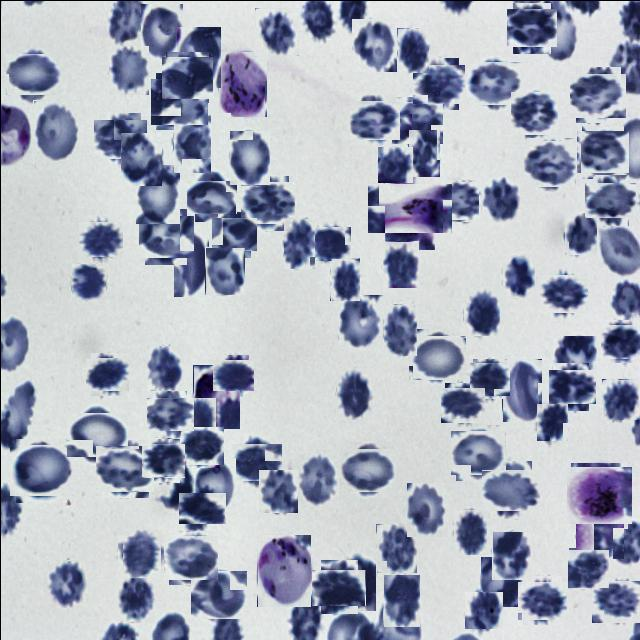gametocyte: (568, 464, 630, 526)
red blood cell: (12, 442, 70, 498), (69, 408, 123, 460), (32, 99, 78, 160), (98, 442, 151, 494), (192, 568, 244, 620), (176, 26, 220, 87), (153, 75, 205, 126), (135, 164, 179, 223), (411, 332, 462, 382), (501, 358, 541, 421), (452, 428, 502, 478), (342, 444, 392, 494), (468, 58, 518, 108), (486, 464, 536, 514), (166, 532, 216, 582), (524, 138, 574, 188), (572, 70, 622, 120), (193, 457, 236, 514), (337, 294, 382, 348), (173, 227, 208, 296), (8, 50, 57, 99), (140, 212, 190, 260), (140, 3, 182, 60), (351, 18, 396, 71), (243, 178, 291, 227), (392, 98, 440, 146), (296, 452, 338, 506), (578, 128, 626, 175), (96, 115, 144, 162), (575, 511, 623, 558), (228, 129, 269, 184), (163, 53, 210, 100), (172, 114, 210, 172), (120, 132, 161, 185), (41, 559, 86, 607), (406, 482, 446, 536), (337, 554, 375, 610), (415, 60, 461, 106), (592, 578, 638, 624), (316, 564, 362, 610), (254, 7, 298, 55), (511, 90, 556, 136), (552, 335, 596, 382), (352, 96, 396, 142), (375, 523, 416, 572), (114, 572, 154, 622), (480, 556, 520, 606), (108, 46, 148, 96), (509, 5, 553, 50), (382, 573, 419, 626), (234, 439, 278, 483), (520, 578, 564, 622), (541, 272, 585, 316), (588, 178, 632, 222), (204, 246, 244, 294), (491, 530, 530, 579), (335, 366, 371, 419), (120, 532, 164, 574), (190, 175, 232, 218), (382, 303, 416, 355), (478, 177, 520, 219), (180, 424, 222, 466), (381, 240, 418, 287), (463, 287, 499, 335), (550, 366, 592, 407), (258, 469, 297, 512), (282, 217, 314, 268), (146, 345, 182, 390), (80, 218, 120, 258), (441, 180, 481, 220), (150, 394, 190, 434), (442, 384, 482, 424), (182, 488, 222, 528), (568, 548, 608, 588), (452, 508, 486, 554), (214, 214, 253, 254), (143, 440, 182, 480), (408, 128, 440, 176), (601, 378, 638, 419), (602, 321, 640, 360), (88, 354, 126, 392), (396, 27, 428, 72), (563, 211, 596, 254), (311, 224, 348, 262), (464, 591, 502, 628), (470, 359, 508, 396), (214, 357, 251, 393), (502, 256, 534, 297), (70, 264, 106, 300), (330, 257, 360, 300), (377, 146, 412, 182), (535, 402, 567, 440)
trophozoite: (376, 173, 443, 240), (256, 533, 310, 606), (217, 50, 266, 116), (192, 364, 239, 428)
